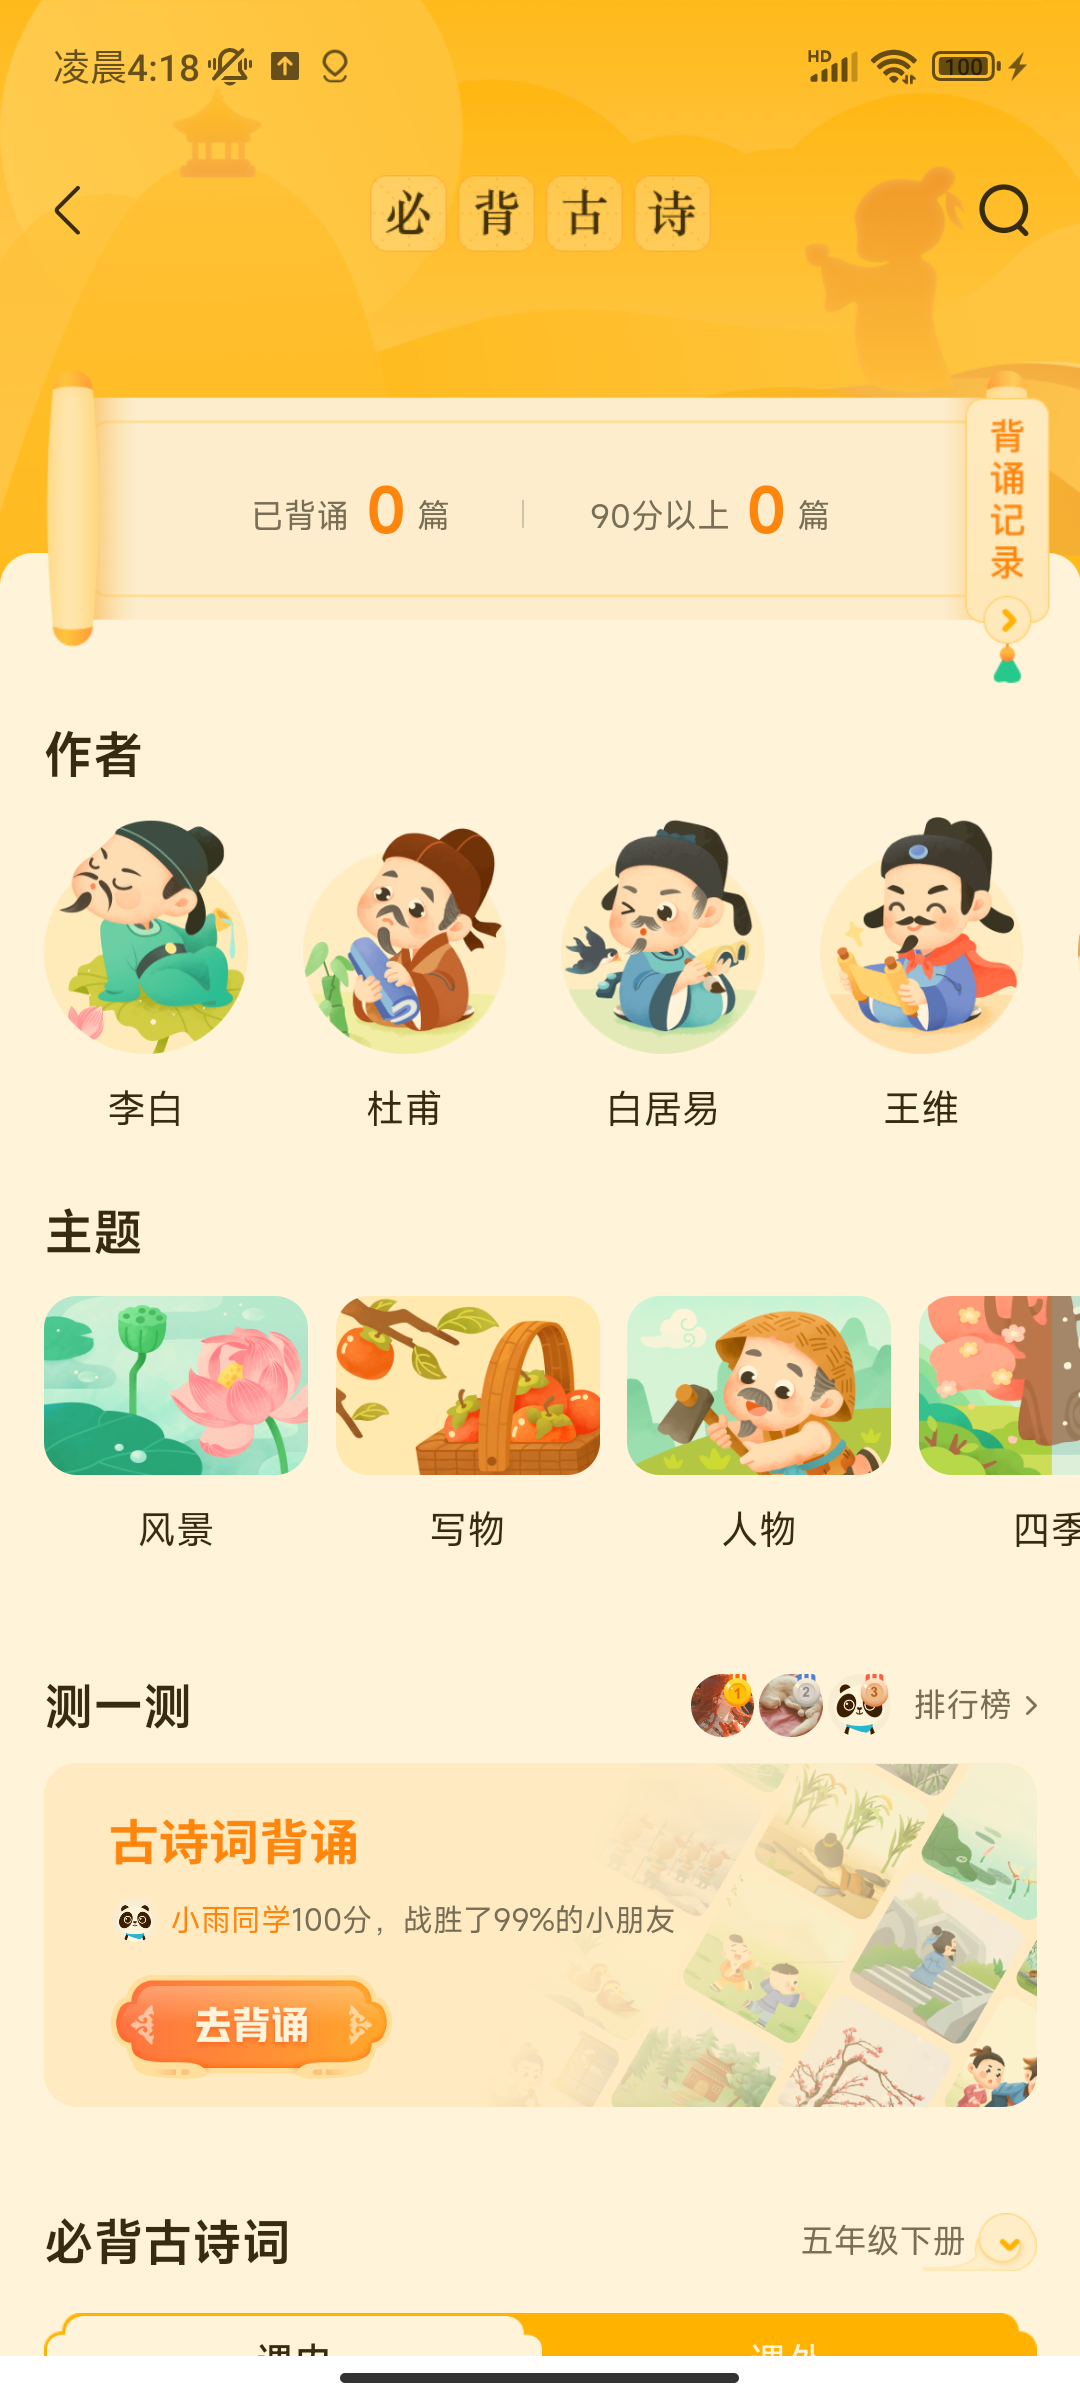ui_group: (40, 1760, 1046, 2108)
